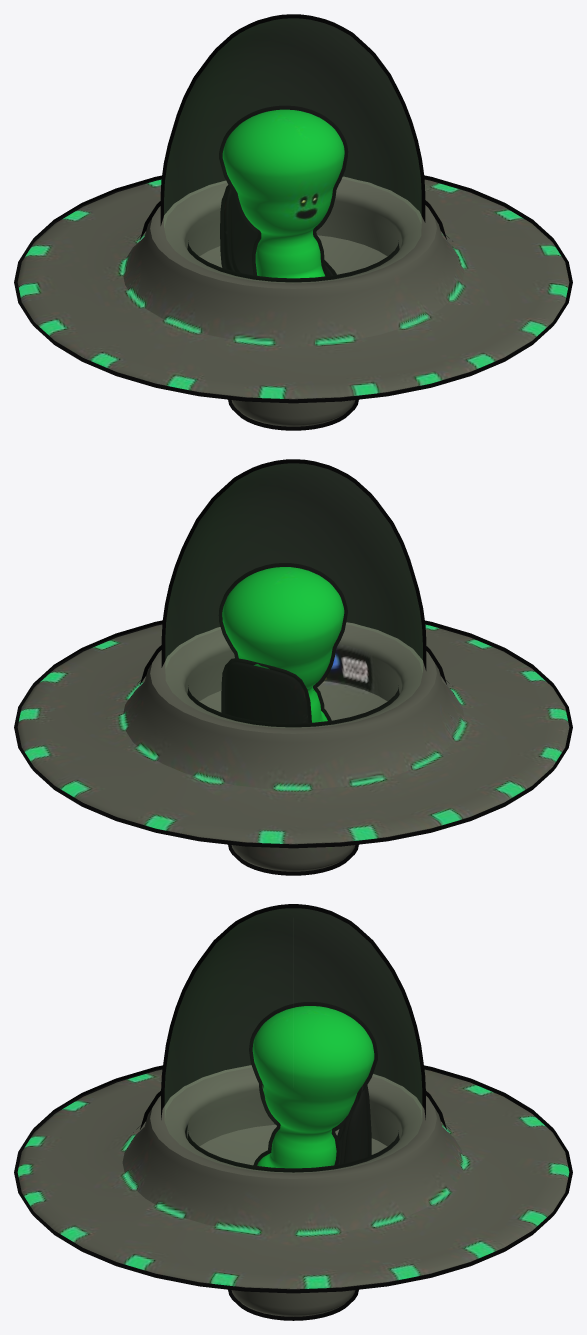
File: drone.glb
The picture shows the model from 3 angles, top to bottom: view 1: azimuth 30°, elevation 25°; view 2: azimuth 150°, elevation 25°; view 3: azimuth 270°, elevation 25°; orthographic projection.
Visible parts, largest first — view 1: Cylinder001, Object002_03 - Default_0; view 2: Cylinder001, Object002_03 - Default_0; view 3: Cylinder001, Object002_03 - Default_0.
Part boxes in pixels (x1,y1,x2,y2): Cylinder001: (17, 109, 569, 426); Object002_03 - Default_0: (14, 14, 572, 430); Cylinder001: (17, 567, 569, 871); Object002_03 - Default_0: (14, 459, 572, 875); Cylinder001: (17, 1006, 569, 1316); Object002_03 - Default_0: (14, 904, 572, 1320).
Size of the model in its own units: 213 by 161 by 213.
3 materials, 1 textured.
